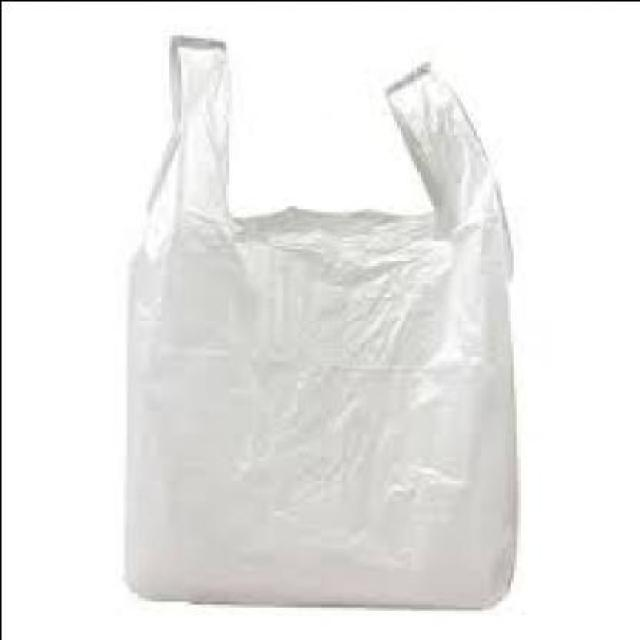PLASTIC: (116, 31, 515, 606)
